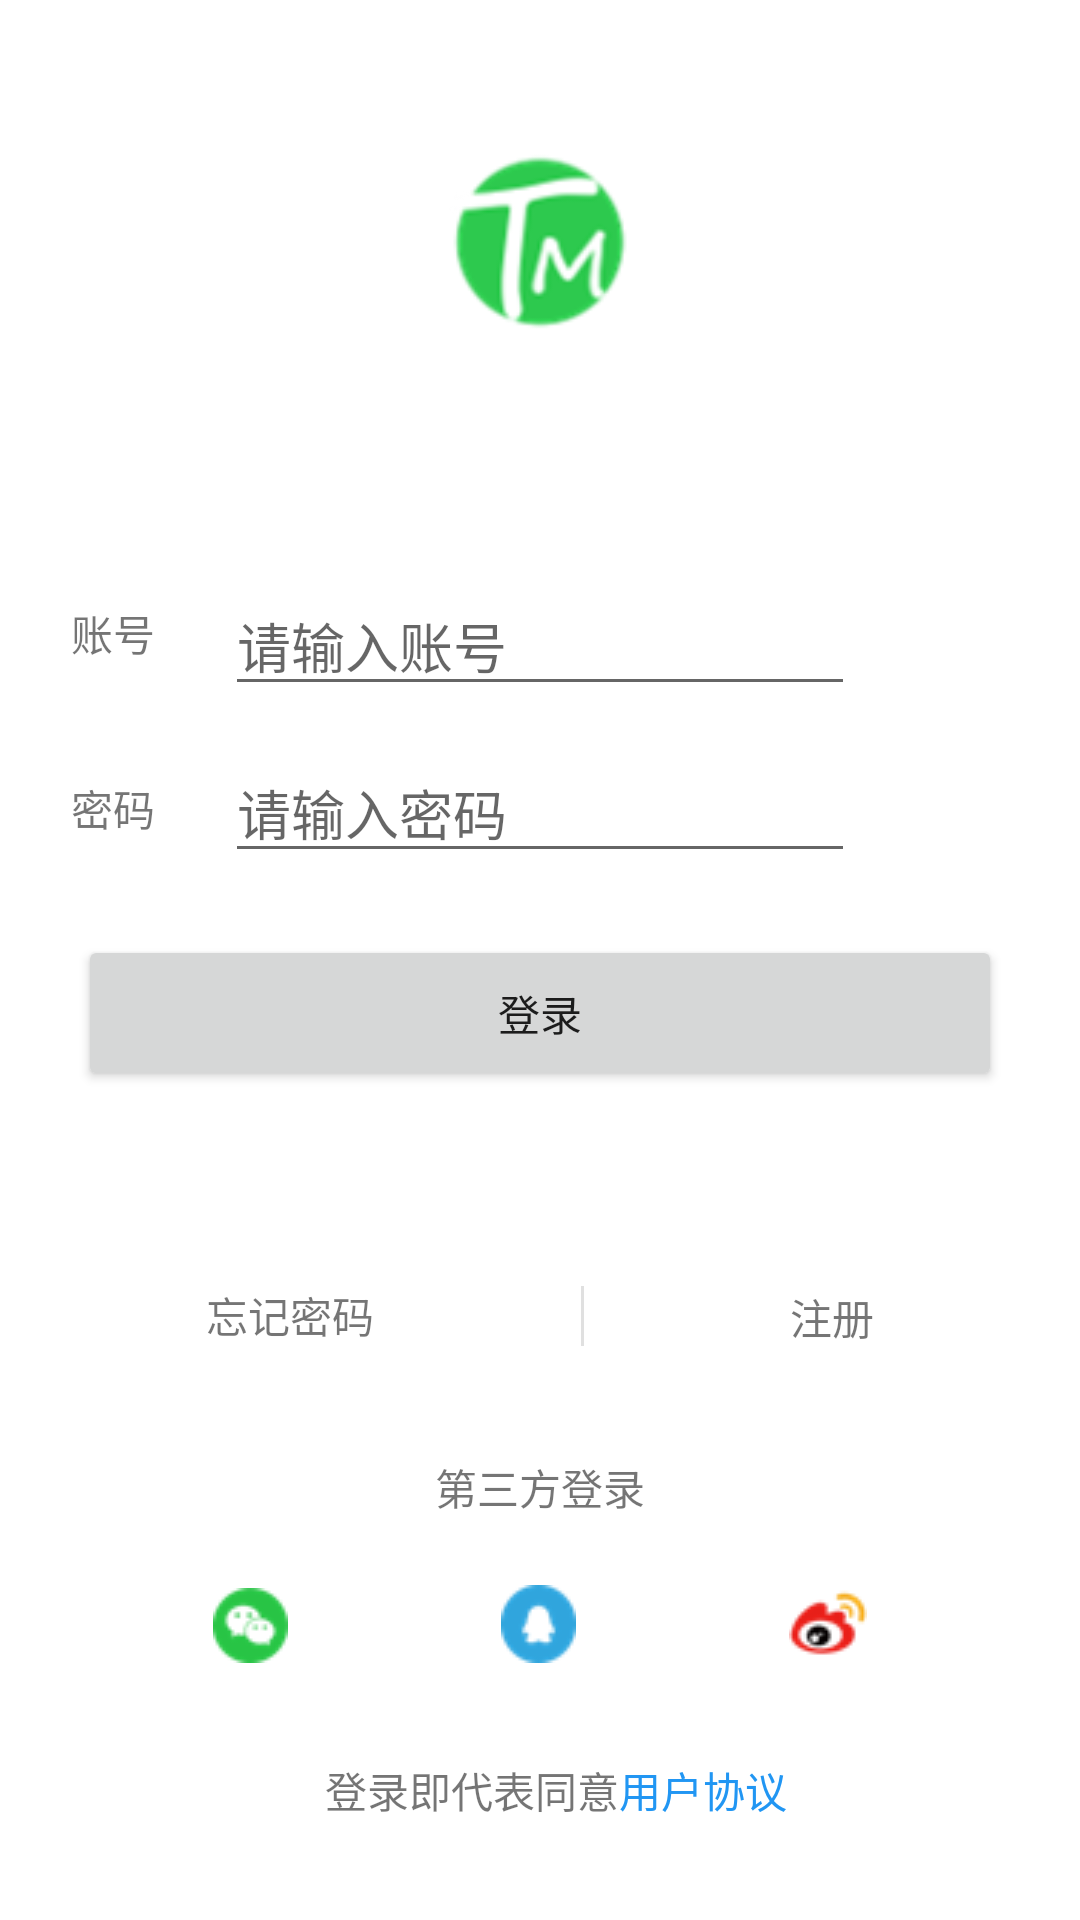

Screen size 1080 x 1920. Icon name, then its box in pixels as (x1, y1, x2, y2):
项目图标: (455, 157, 626, 327)
